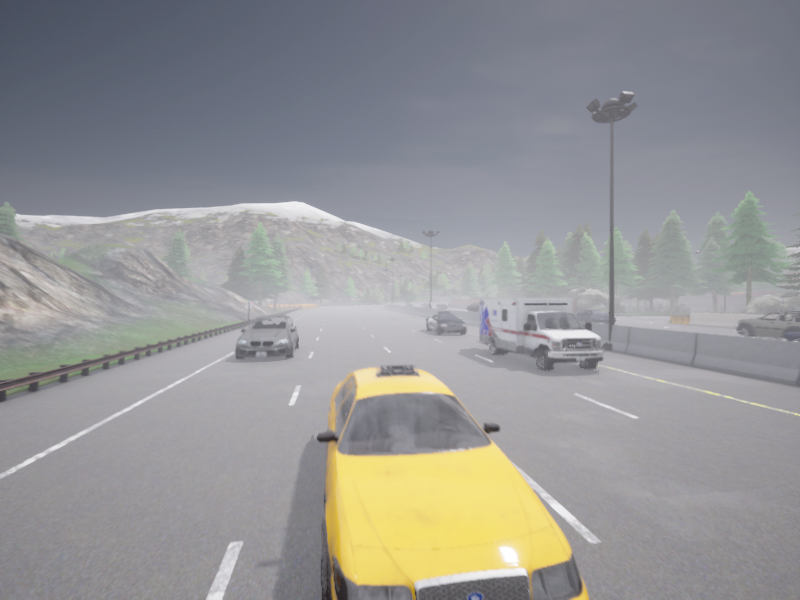vehicle: (316, 364, 588, 599), (477, 299, 602, 370), (235, 315, 298, 359), (734, 309, 799, 338), (425, 312, 466, 335), (574, 310, 615, 323), (782, 332, 799, 341), (466, 302, 478, 312), (435, 303, 446, 309), (420, 303, 429, 307), (404, 303, 412, 306), (427, 303, 429, 304)
